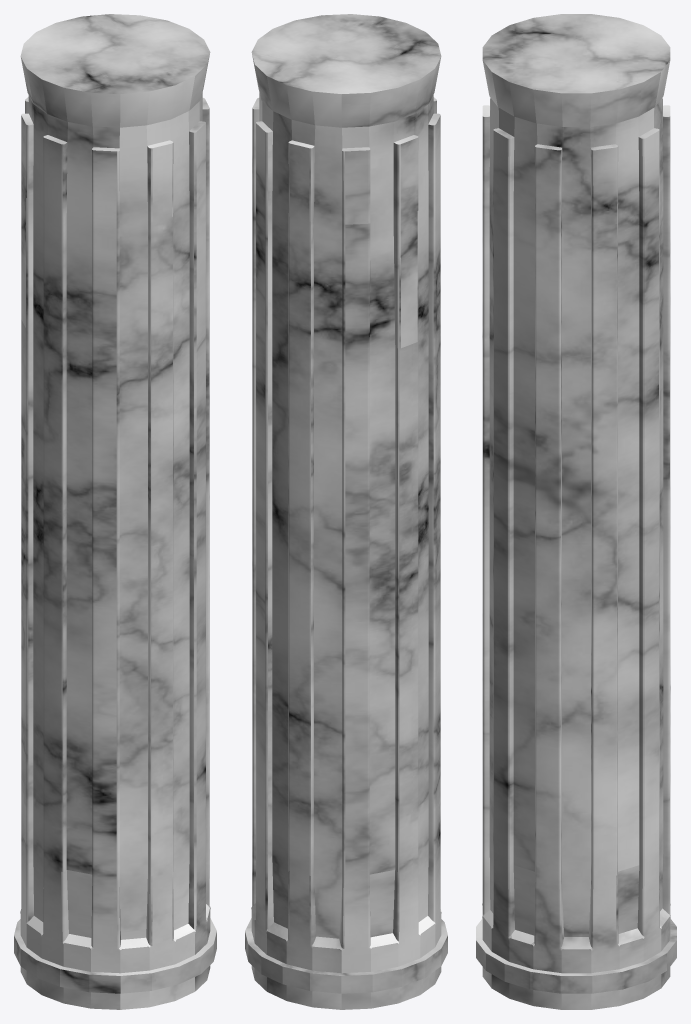
The model's file is Capstone_Pillar.fbx.
3 views of the same model, side by side, from view 1: azimuth 30°, elevation 25°; view 2: azimuth 150°, elevation 25°; view 3: azimuth 270°, elevation 25° (orthographic).
Visible parts, largest first — view 1: pCylinder8; view 2: pCylinder8; view 3: pCylinder8.
Boxes of the visible parts, x1,y1,x2,y2 form: pCylinder8: [14, 14, 216, 1009]; pCylinder8: [245, 14, 447, 1009]; pCylinder8: [476, 14, 676, 1009].
Bounding box in the file's own units: 2 × 10.06 × 2.
1 material, 1 textured.
